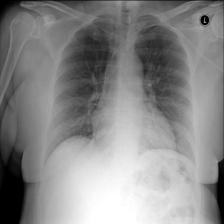normal: (33, 7, 202, 175)
